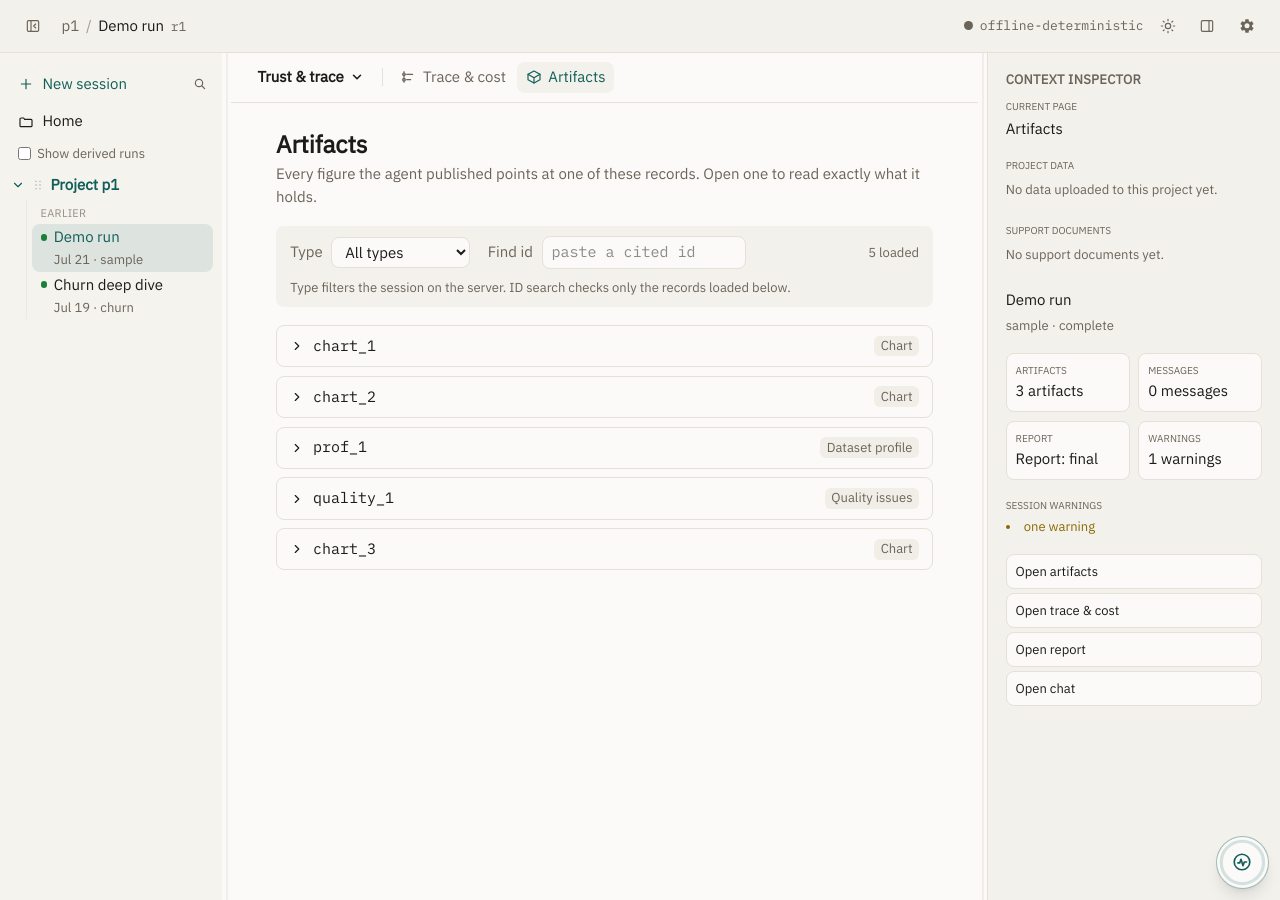
Test: Artifacts page with real API › surfaces the caveats recorded on an artifact
The width and height of the screenshot is (1280, 900).
Click the button "chart_1 Chart" at (345, 345), box [277,326,932,366]
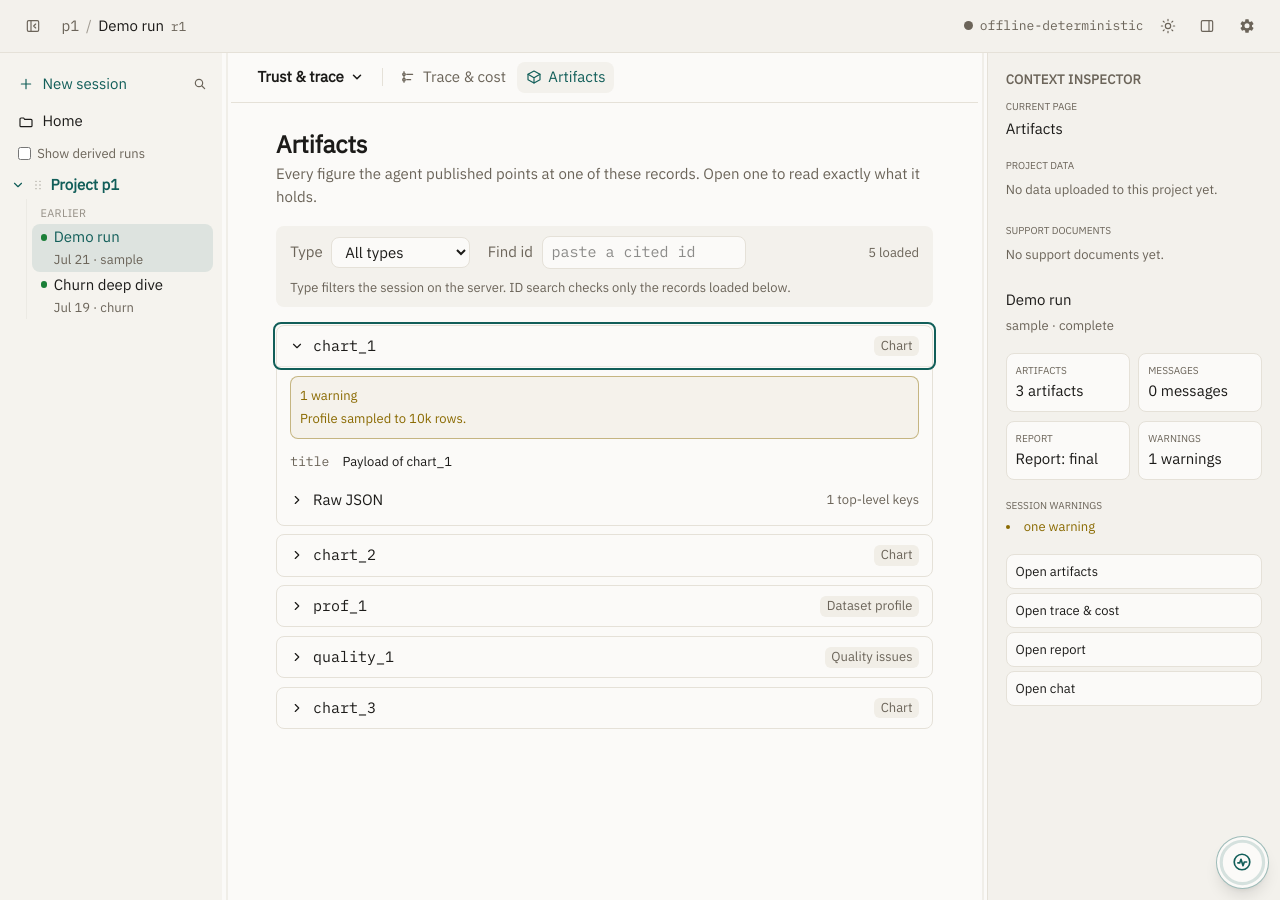
Expected: the text "1 warning" is shown, [300,386,357,404]
Expected: the list item "Profile sampled to 10k rows." is shown, [300,410,466,427]
